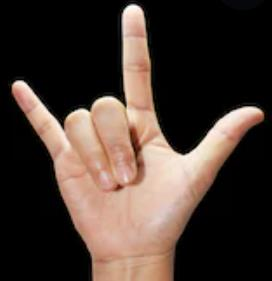back: (8, 1, 269, 230)
